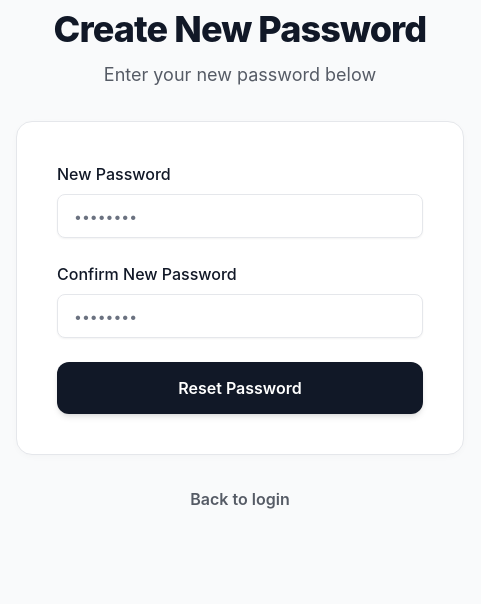
Scenario: ResetPassword Component › shows error if passwords do not match
Type "password123" into the password field with placeholder "••••••••".
click(240, 216); type("password123")  # box [57,194,423,238]
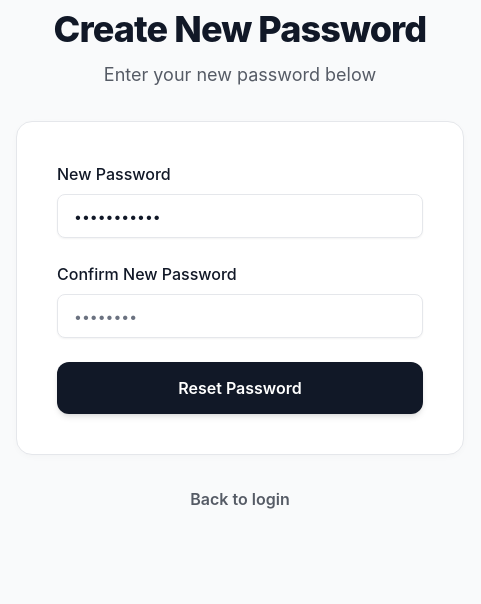
Type "password456" into the password field with placeholder "••••••••".
click(240, 316); type("password456")  # box [57,294,423,338]
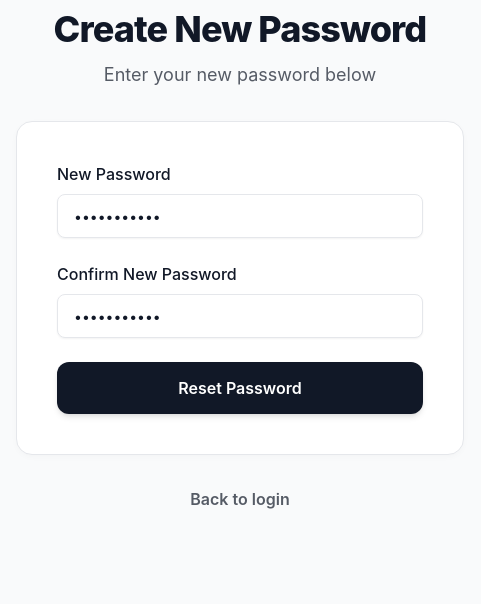
Click the button "Reset Password".
click(240, 388)  # box [57,362,423,414]
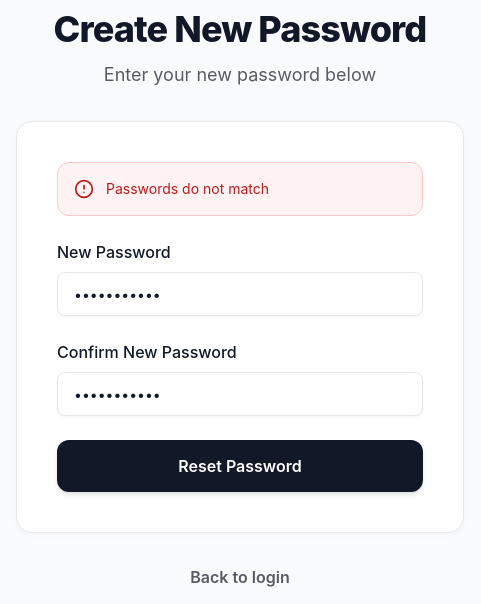
Expected: the text "Passwords do not match" is shown, [106,179,269,199]
